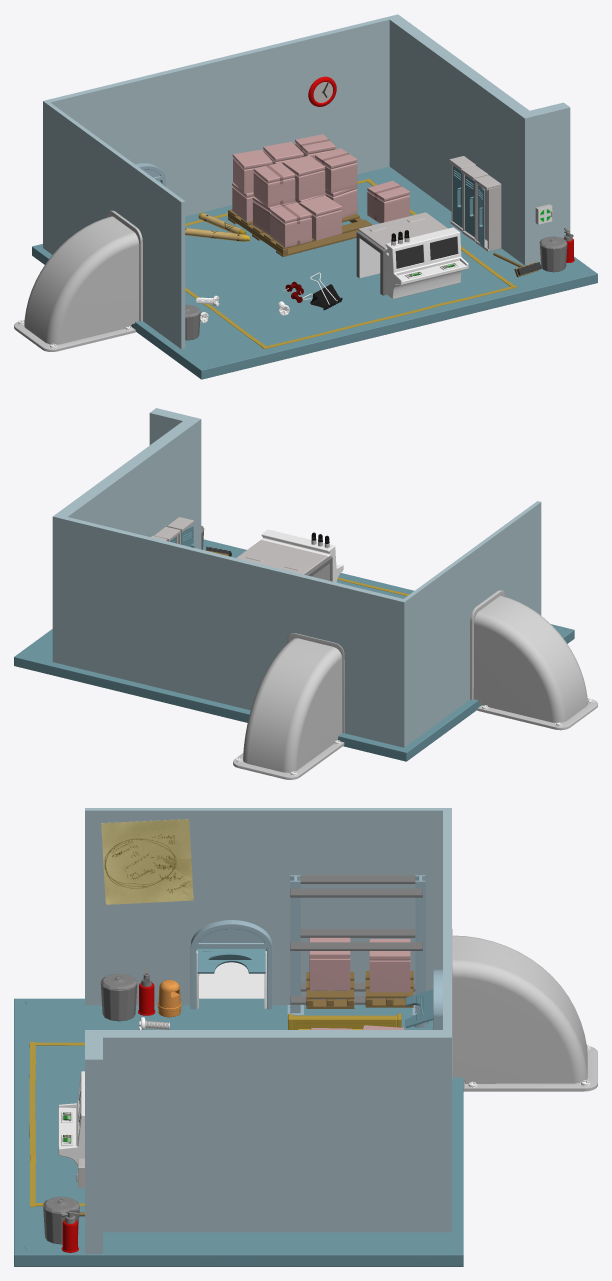
3 renders of one model, top to bottom at view 1: azimuth 30°, elevation 25°; view 2: azimuth 150°, elevation 25°; view 3: azimuth 270°, elevation 25°, orthographic. The views are drawn at different scales.
Visible parts, largest first — view 1: Walls, Mesh8_Plastic_Blue_0, pTorus5, Body, Box_032, Box_028, Box_035, Box_033, Box_025, Box_024, pCube179, pCube187 (×2) (+13 smaller); view 2: Walls, pTorus5 (×2), Mesh8_Plastic_Blue_0, Body; view 3: Walls, Mesh8_Plastic_Blue_0, pTorus5, pCube244, pCube248, Machine_04_Inlet_Trim_03, pCylinder143 (×2), Box24, Box25, pCylinder96 (×2), Body, pCube195 (+9 smaller).
Part boxes in pixels (x1,y1,x2,y2): Walls: (43,14,570,349); Mesh8_Plastic_Blue_0: (32,166,597,379); pTorus5: (14,210,142,351); Body: (358,212,468,299); Box_032: (253,162,295,207); Box_028: (269,202,311,247); Box_035: (367,180,409,223); Box_033: (315,148,357,193); Box_025: (282,155,325,200); Box_024: (299,195,341,240); pCube179: (475,183,501,251); pCube187 (×2): (453,165,474,236); Walls: (52,408,541,747); pTorus5 (×2): (233,590,597,779); Mesh8_Plastic_Blue_0: (14,539,574,761); Body: (236,529,343,582); Walls: (85,808,451,1254); Mesh8_Plastic_Blue_0: (14,998,463,1266); pTorus5: (452,929,597,1091); pCube244: (101,819,193,904); pCube248: (190,920,272,1009); Machine_04_Inlet_Trim_03: (196,951,266,1008); pCylinder143 (×2): (197,948,433,1027); Box24: (369,939,410,992); Box25: (309,937,350,990); pCylinder96 (×2): (43,982,137,1244); Body: (58,1071,84,1166); pCube195: (292,1015,396,1029).
Bounding box in the file's own units: 64.29 × 19.7 × 50.36.
